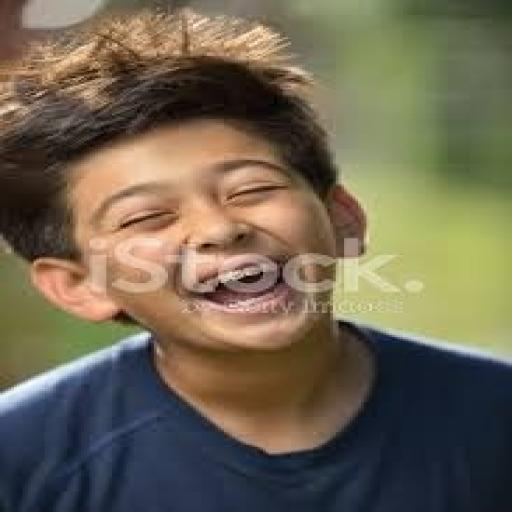laughing: (0, 6, 509, 510)
